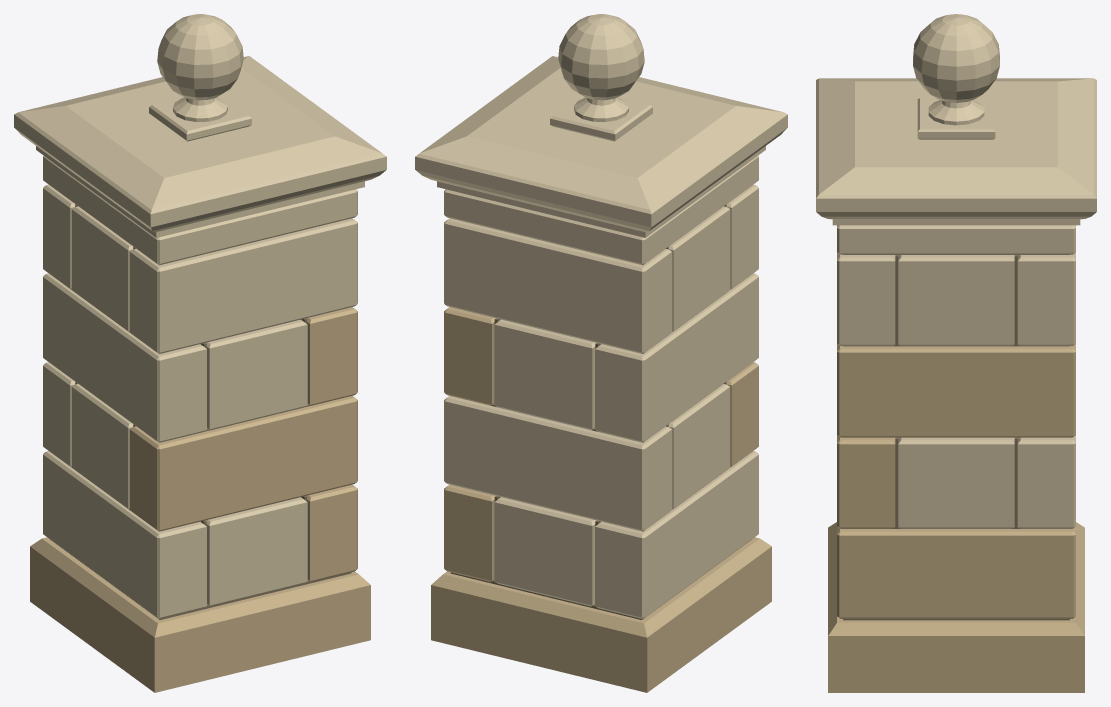
3 renders of one model, left to right at view 1: azimuth 30°, elevation 25°; view 2: azimuth 150°, elevation 25°; view 3: azimuth 270°, elevation 25°, orthographic. The views are drawn at different scales.
Visible parts, largest first — view 1: Mesh_Masonry_Limestone, Mesh_Masonry_Travertine, Mesh_Joints_Mortar; view 2: Mesh_Masonry_Limestone, Mesh_Masonry_Travertine, Mesh_Joints_Mortar; view 3: Mesh_Masonry_Limestone, Mesh_Masonry_Travertine, Mesh_Joints_Mortar.
Part boxes in pixels (left/top/right/bottom): Mesh_Masonry_Limestone: left=14, top=14, right=386, bottom=618; Mesh_Masonry_Travertine: left=30, top=307, right=370, bottom=692; Mesh_Joints_Mortar: left=51, top=204, right=351, bottom=619; Mesh_Masonry_Limestone: left=415, top=14, right=787, bottom=618; Mesh_Masonry_Travertine: left=431, top=307, right=771, bottom=692; Mesh_Joints_Mortar: left=450, top=204, right=750, bottom=619; Mesh_Masonry_Limestone: left=816, top=14, right=1096, bottom=528; Mesh_Masonry_Travertine: left=828, top=344, right=1084, bottom=692; Mesh_Joints_Mortar: left=843, top=254, right=1069, bottom=620.
Size of the model in its own units: 0.94 by 2.29 by 0.94.
